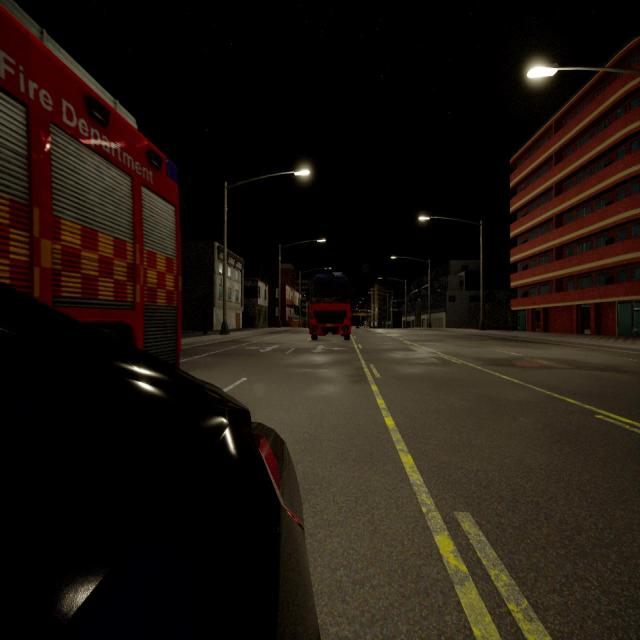Vehicle: (0, 291, 315, 640), (1, 0, 180, 370), (310, 274, 350, 339)
